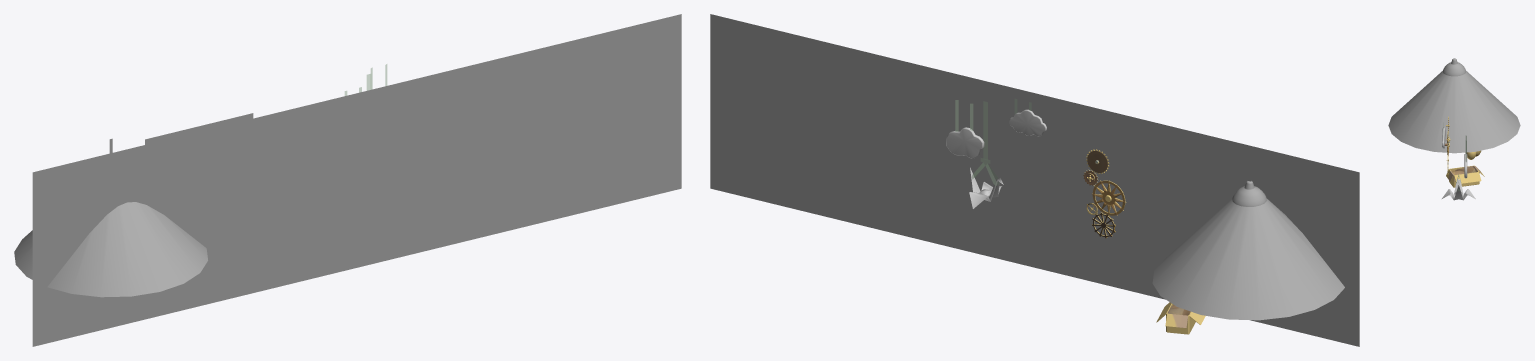
File: Menu.fbx
3 views of the same model, side by side, from view 1: azimuth 30°, elevation 25°; view 2: azimuth 150°, elevation 25°; view 3: azimuth 270°, elevation 25° (orthographic). The views are drawn at different scales.
Visible parts, largest first — view 1: Background, LightBeam, FlagModel; view 2: Background, LightBeam, FlagModel, Cloud1, Case1, Cloud0, Gear42, LightShell, PaperCraneModel; view 3: LightBeam, Case1, PaperCraneModel, LightShell, CaseSurface1.
Boxes of the visible parts, x1,y1,x2,y2 form: Background: [32, 14, 681, 346]; LightBeam: [14, 202, 207, 297]; FlagModel: [145, 113, 253, 144]; Background: [710, 14, 1359, 346]; LightBeam: [1152, 198, 1344, 320]; FlagModel: [1121, 126, 1229, 183]; Cloud1: [946, 127, 984, 158]; Case1: [1156, 302, 1205, 334]; Cloud0: [1009, 109, 1046, 136]; Gear42: [1092, 180, 1126, 215]; LightShell: [1232, 181, 1266, 206]; PaperCraneModel: [969, 167, 1003, 208]; LightBeam: [1388, 71, 1520, 153]; Case1: [1446, 165, 1484, 187]; PaperCraneModel: [1442, 178, 1475, 200]; LightShell: [1442, 58, 1466, 76]; CaseSurface1: [1451, 167, 1476, 174].
Size of the model in its own units: 33.73 by 8.67 by 8.78.
